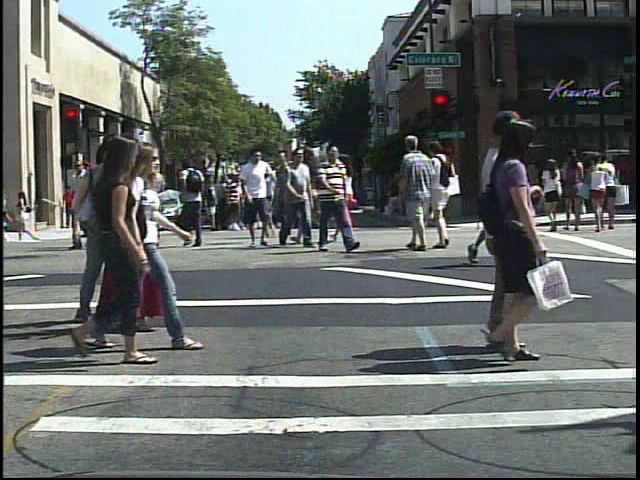person: (454, 109, 577, 359), (457, 114, 576, 368), (77, 128, 160, 370), (123, 136, 198, 353), (97, 131, 176, 336), (75, 132, 121, 336), (475, 126, 531, 266), (308, 143, 357, 255), (397, 133, 440, 257), (300, 141, 341, 251), (275, 143, 313, 252), (241, 145, 276, 255), (434, 138, 464, 248), (337, 146, 369, 248), (137, 157, 172, 247), (181, 153, 210, 249), (541, 154, 566, 235), (221, 168, 246, 237), (64, 182, 84, 232)
